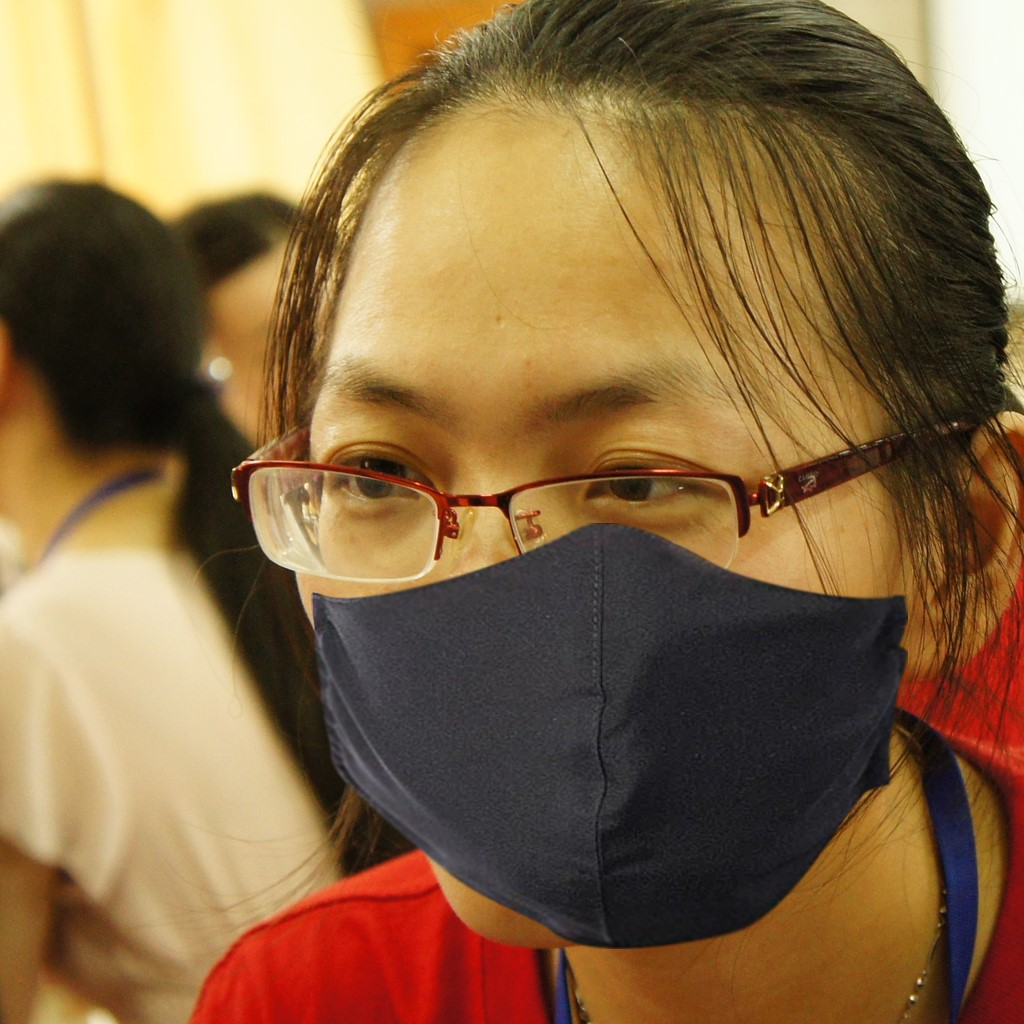con_mascara: (312, 121, 925, 900)
